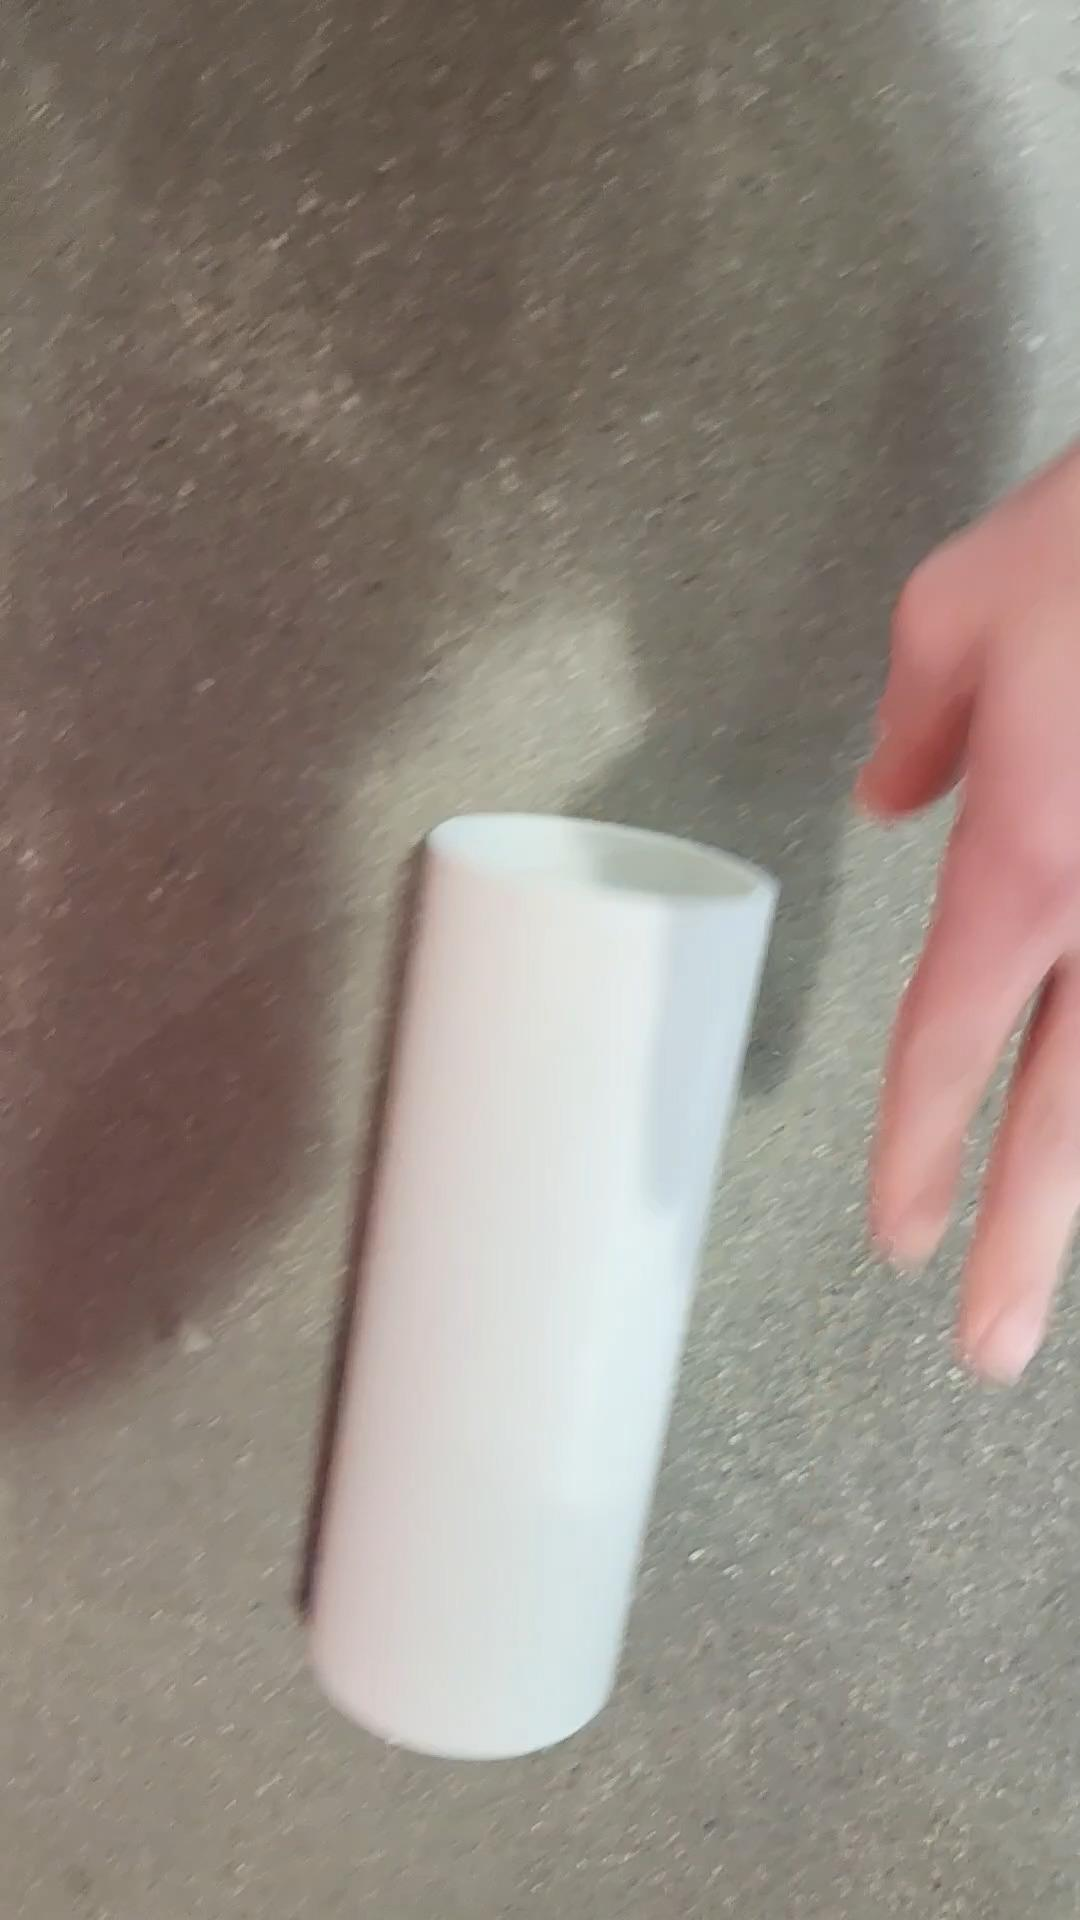coral: (307, 804, 790, 1756)
